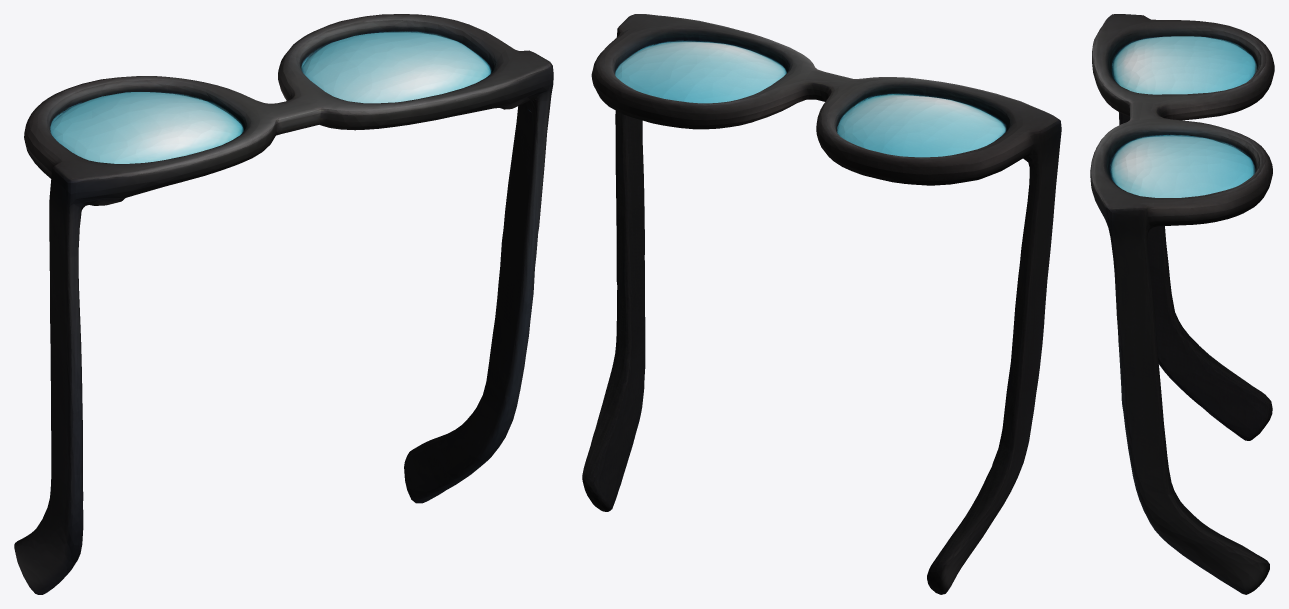
File: Lantano.fbx
The picture shows the model from 3 angles, left to right: view 1: azimuth 30°, elevation 25°; view 2: azimuth 150°, elevation 25°; view 3: azimuth 270°, elevation 25°; orthographic projection. The views are drawn at different scales.
Visible parts, largest first — view 1: geometry_0.001; view 2: geometry_0.001; view 3: geometry_0.001.
Part boxes in pixels (x1,y1,x2,y2): geometry_0.001: [14, 14, 553, 594]; geometry_0.001: [582, 14, 1061, 594]; geometry_0.001: [1090, 14, 1274, 594].
Size of the model in its own units: 0.3129 by 0.3038 by 0.1235.
1 material, 1 textured.
